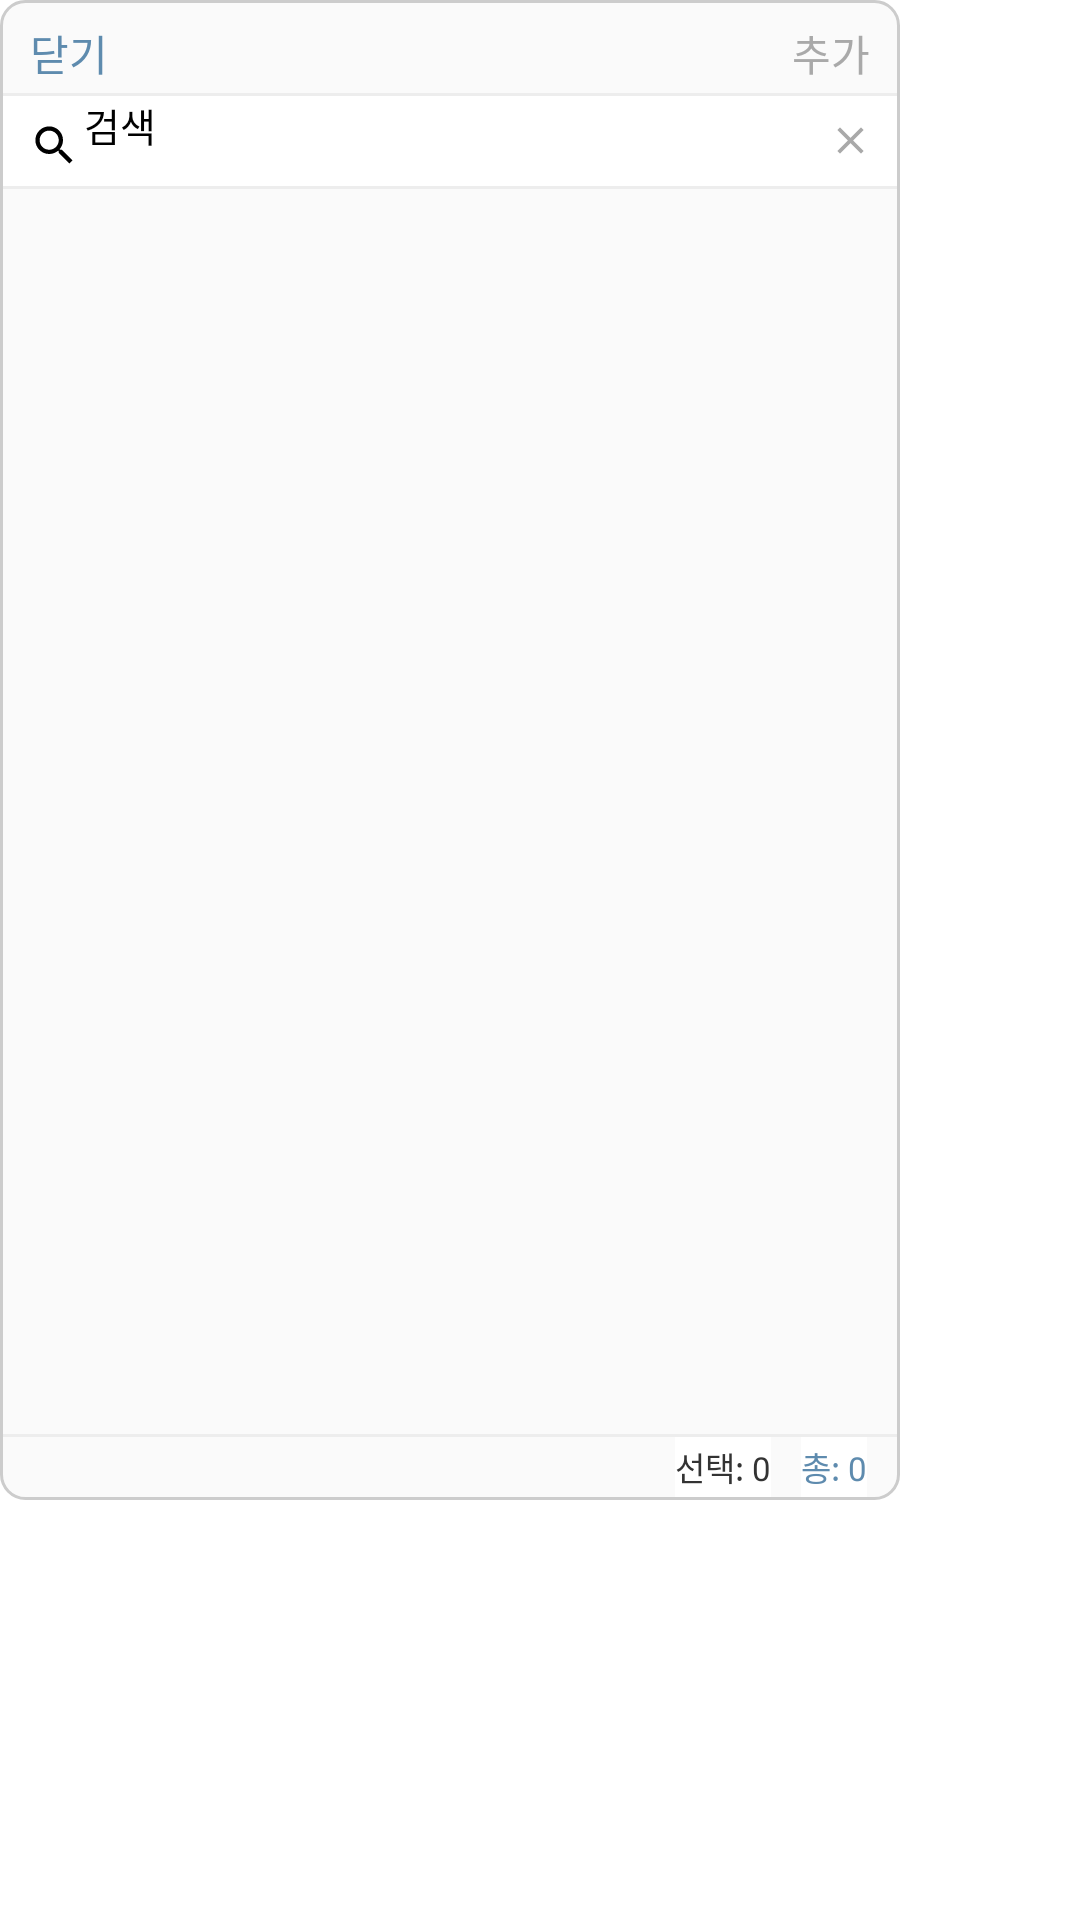

Locate icon controls on the screen. Image size 1080 x 1920, boxes as (x1, y1, x2, y2).
cansel: (838, 128, 863, 153)
